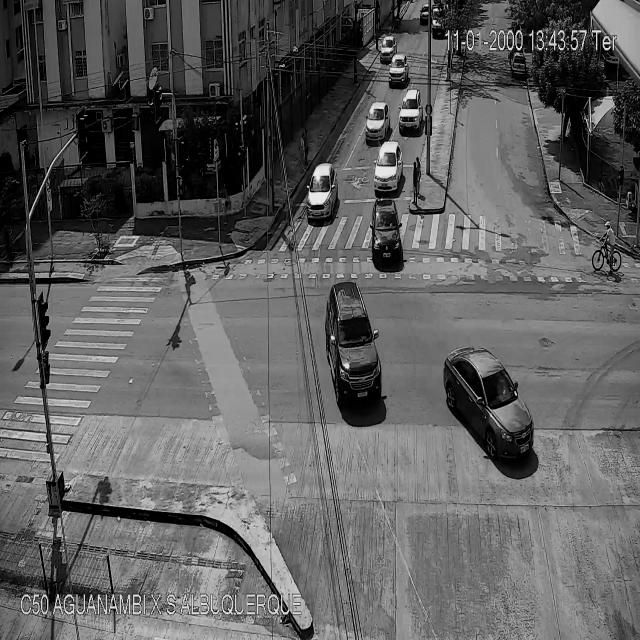Car: (444, 349, 535, 464), (323, 278, 381, 402), (370, 204, 403, 268), (306, 164, 338, 218), (374, 140, 404, 192), (364, 104, 390, 142), (400, 90, 421, 132), (388, 56, 407, 84), (380, 37, 395, 63), (512, 54, 528, 76), (420, 4, 432, 24)
Truck: (431, 7, 446, 39)
